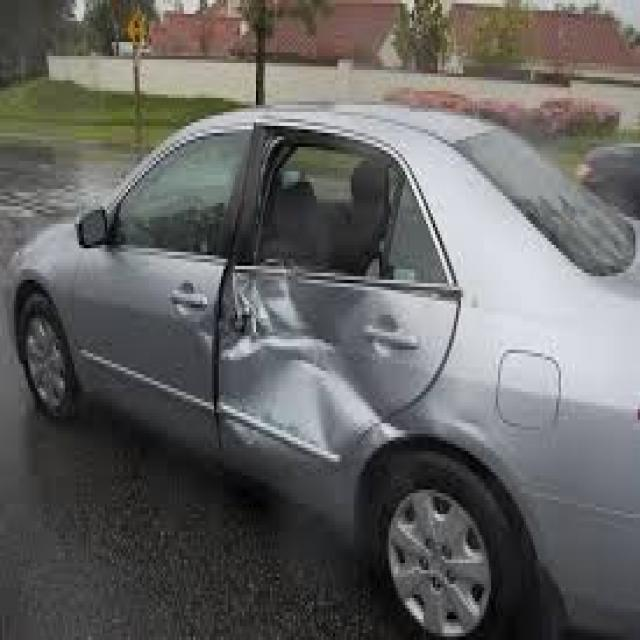moderate: (215, 121, 445, 494)
